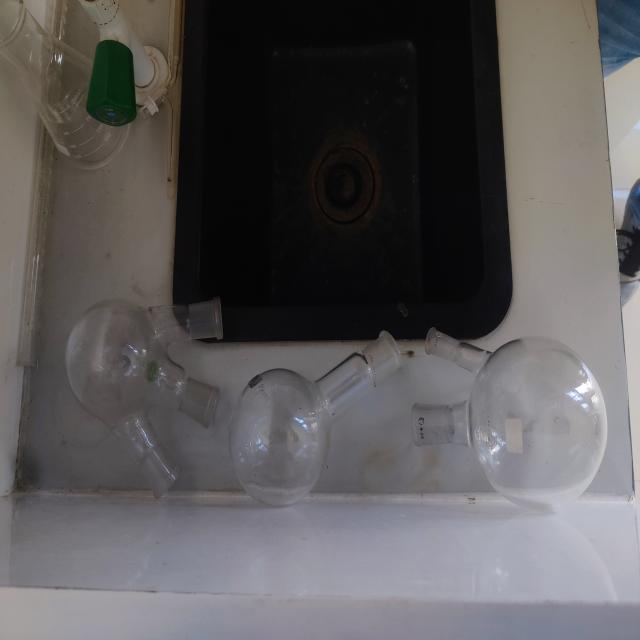Round_Bottom_Flask_Borosilicate_Glass_1_Neck: (228, 293, 410, 541)
Round_Bottom_Flask_Borosilicate_Glass_2_Neck: (396, 261, 618, 526)
Round_Bottom_Flask_Borosilicate_Glass_3_Neck: (42, 250, 236, 512)
